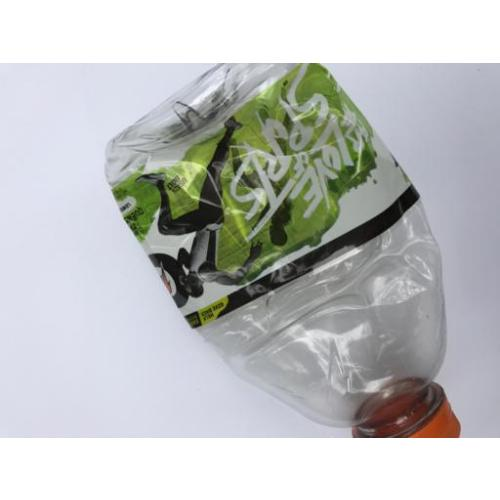plastic: (105, 62, 460, 436)
